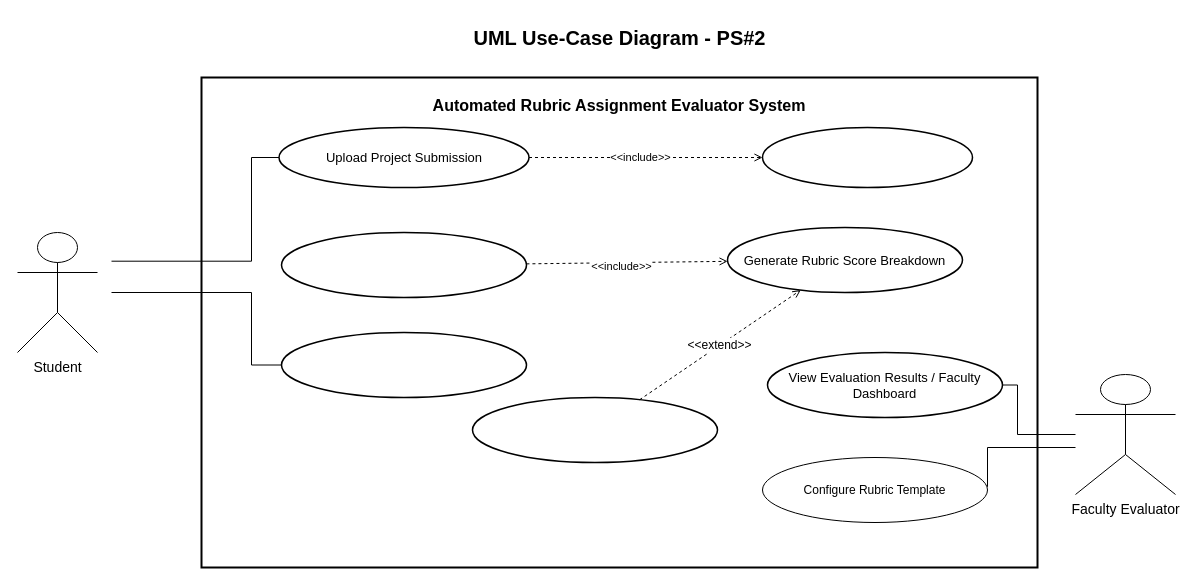
Some shapes in this 1197 by 585 pixel diagram are drawn without their labels. Each missing label, with the centre of its shape:
Assign Peer Review Tasks: the point at 594,429
Execute Unit Tests & Log Results: the point at 403,264
Validate Submission: the point at 867,157
View Evaluation Results: the point at 403,364
